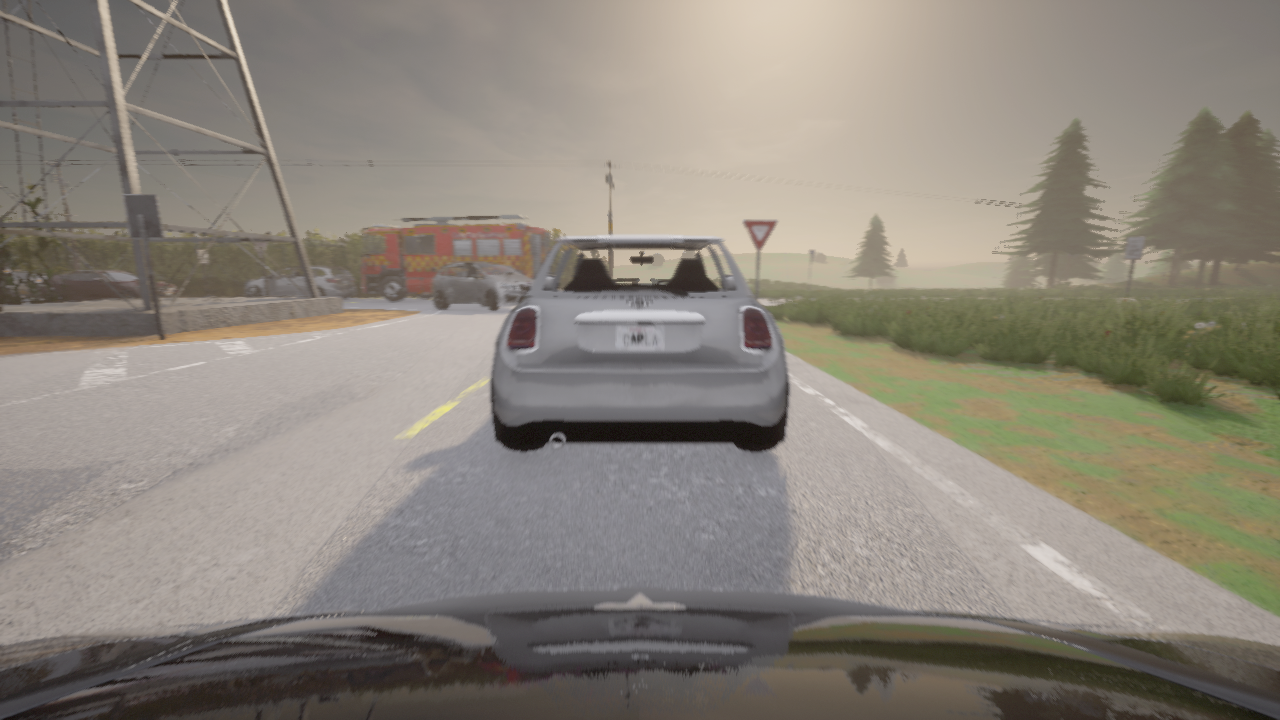cyclist: (0, 588, 1279, 719), (490, 235, 789, 452), (361, 214, 550, 301), (432, 262, 534, 310), (38, 270, 179, 301), (245, 265, 355, 298), (1, 267, 40, 295)
